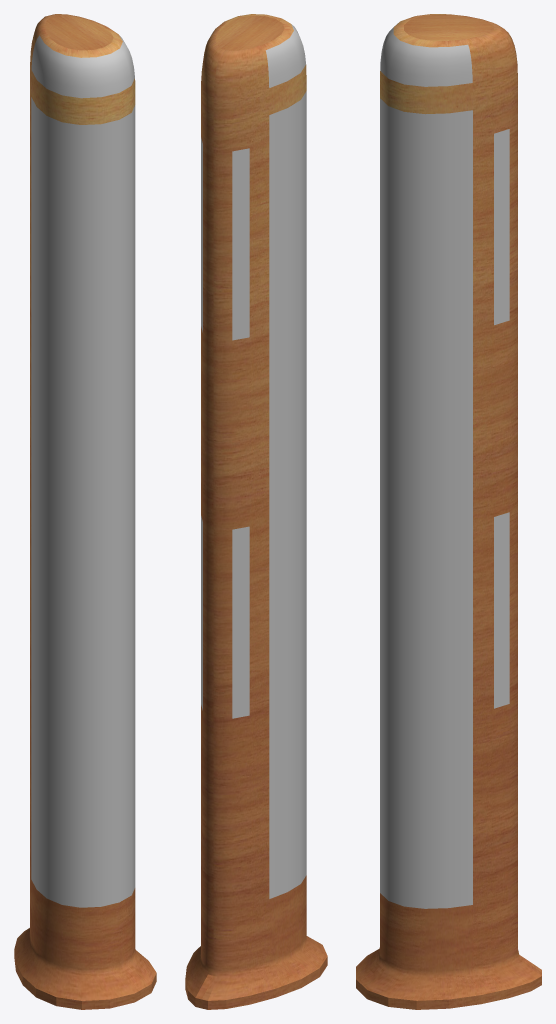
File: UprightLight.FBX
3 renders of one model, left to right at view 1: azimuth 30°, elevation 25°; view 2: azimuth 150°, elevation 25°; view 3: azimuth 270°, elevation 25°, orthographic.
Parts seen in each view (by area): view 1: lightglow, UprightLight; view 2: UprightLight, lightglow; view 3: lightglow, UprightLight.
Boxes of the visible parts, <box> form: lightglow: <box>31,35,135,907</box>; UprightLight: <box>14,14,156,1009</box>; UprightLight: <box>185,14,327,1009</box>; lightglow: <box>201,24,306,898</box>; lightglow: <box>380,23,509,908</box>; UprightLight: <box>356,14,541,1009</box>.
Bounding box in the file's own units: 12.9 × 103 × 18.14.
